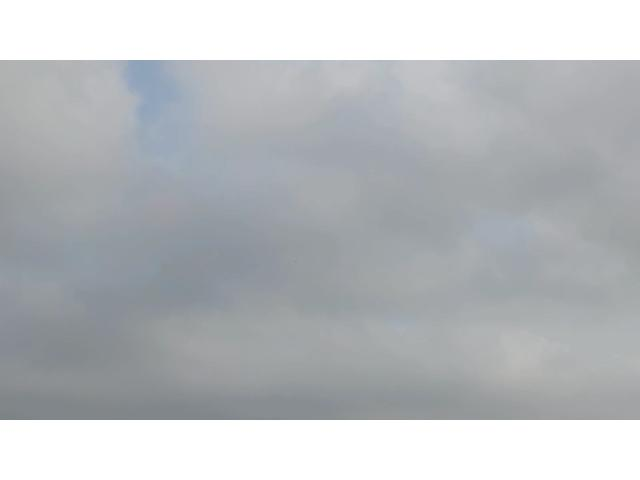Anti-Drone: (294, 259, 298, 262)
